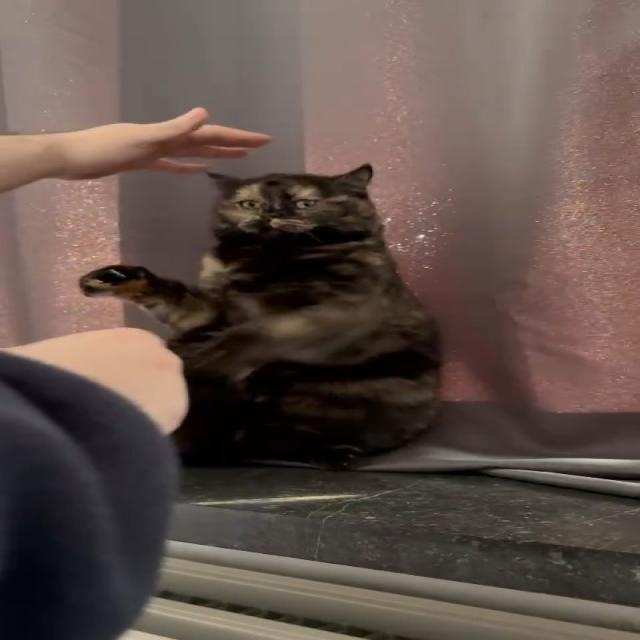authorized: (77, 162, 444, 470)
